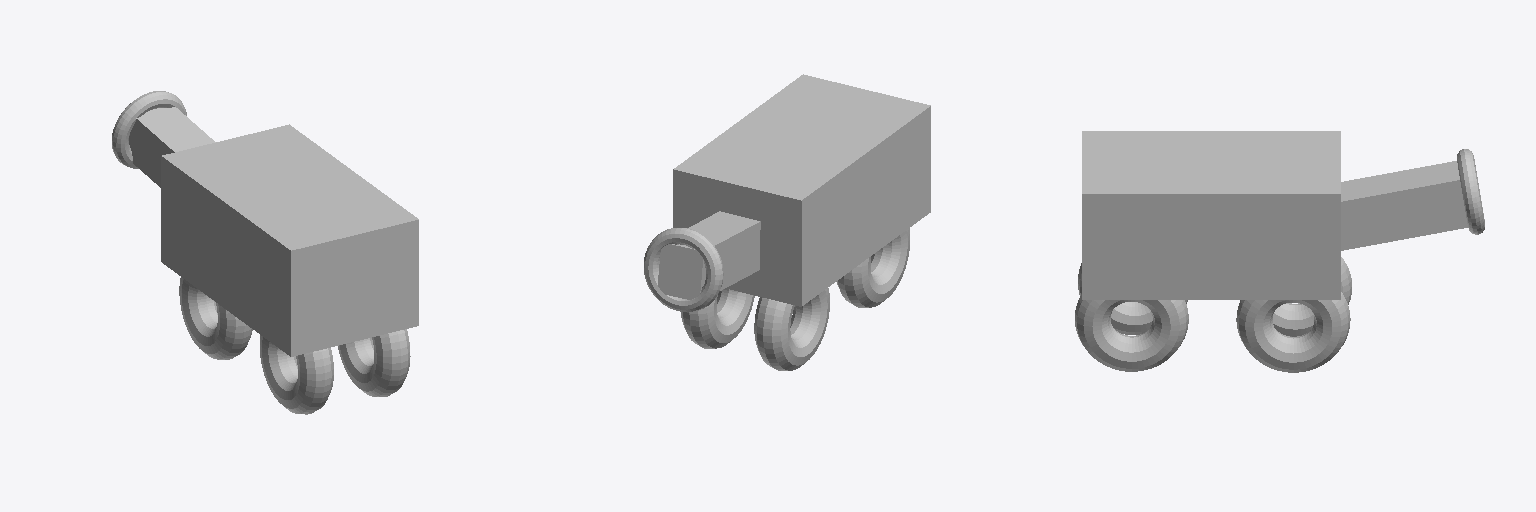
The model's file is Camera enemy one.obj.
3 views of the same model, side by side, from view 1: azimuth 30°, elevation 25°; view 2: azimuth 150°, elevation 25°; view 3: azimuth 270°, elevation 25° (orthographic).
Visible parts, largest first — view 1: Cube, Torus.001, Torus.000_Torus.002, Cube.001, Torus.003_Torus.004, Torus.005; view 2: Cube, Cube.001, Torus.003_Torus.004, Torus.005, Torus.001, Torus.002_Torus.003; view 3: Cube, Cube.001, Torus.002_Torus.003, Torus.000_Torus.002, Torus.003_Torus.004, Torus.005, Torus.001.
Part boxes in pixels (left/top/right/bottom): Cube: left=161, top=124, right=418, bottom=356; Torus.001: left=260, top=335, right=333, bottom=414; Torus.000_Torus.002: left=338, top=329, right=410, bottom=396; Cube.001: left=129, top=107, right=215, bottom=187; Torus.003_Torus.004: left=179, top=277, right=252, bottom=359; Torus.005: left=112, top=91, right=186, bottom=168; Cube: left=673, top=74, right=930, bottom=306; Cube.001: left=658, top=211, right=760, bottom=299; Torus.003_Torus.004: left=754, top=288, right=829, bottom=370; Torus.005: left=644, top=228, right=723, bottom=311; Torus.001: left=836, top=228, right=909, bottom=307; Torus.002_Torus.003: left=681, top=288, right=754, bottom=348; Cube: left=1082, top=131, right=1340, bottom=299; Cube.001: left=1341, top=161, right=1467, bottom=250; Torus.002_Torus.003: left=1236, top=292, right=1350, bottom=372; Torus.000_Torus.002: left=1075, top=294, right=1188, bottom=371; Torus.003_Torus.004: left=1273, top=257, right=1351, bottom=336; Torus.005: left=1457, top=149, right=1484, bottom=234; Torus.001: left=1078, top=263, right=1187, bottom=334.
Size of the model in its own units: 0.3035 by 0.4421 by 0.8413.